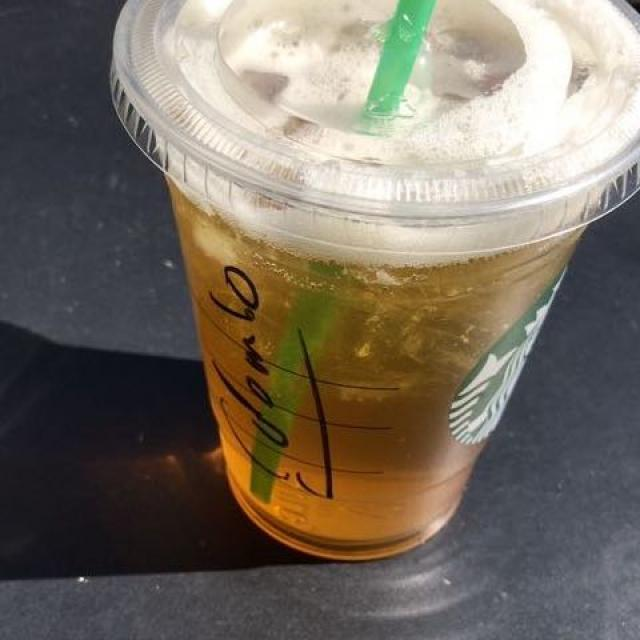ice-tea: (138, 9, 633, 489)
